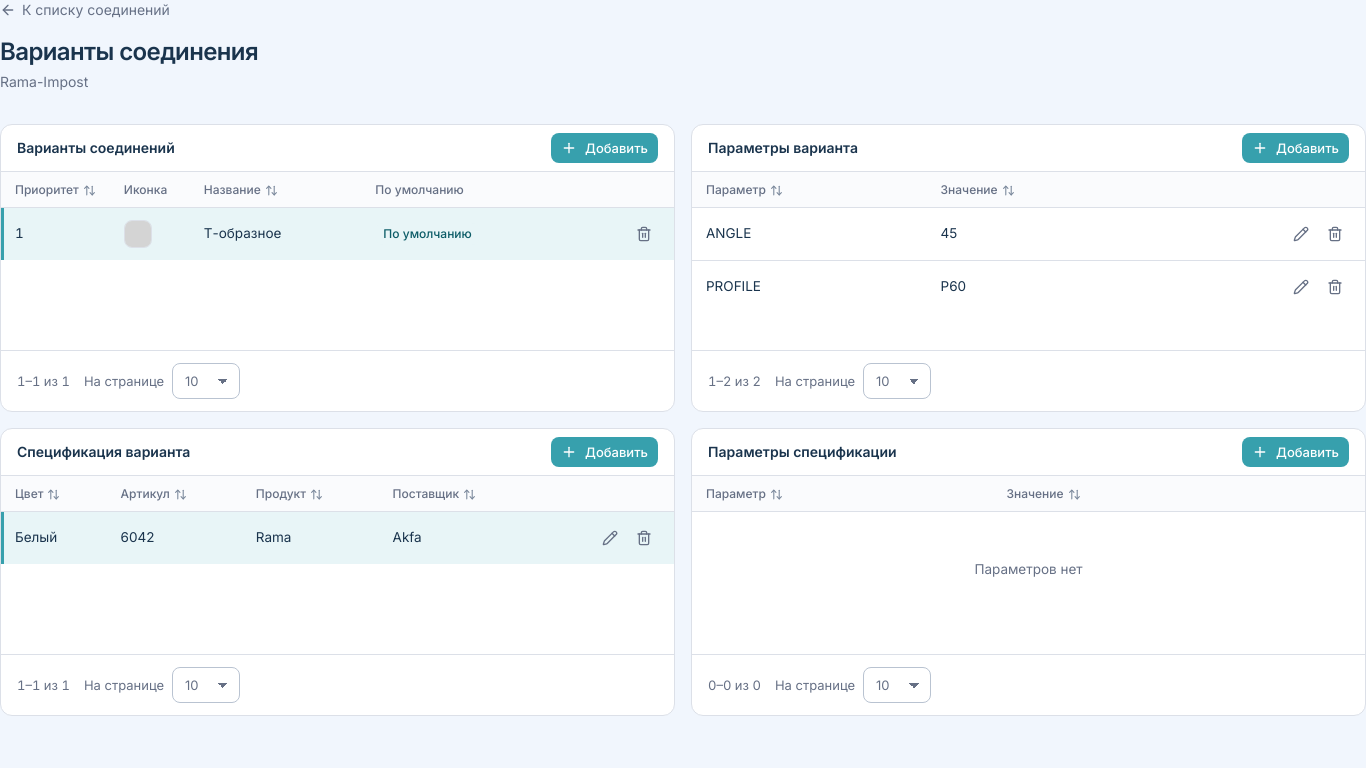
Scenario: Connection variants page › a deleted chosen variant is dropped from the URL, so its panels ask again
Click the button named "Удалить" in the row of "Т-образное" at (644, 234), box left=628, top=218, right=660, bottom=250
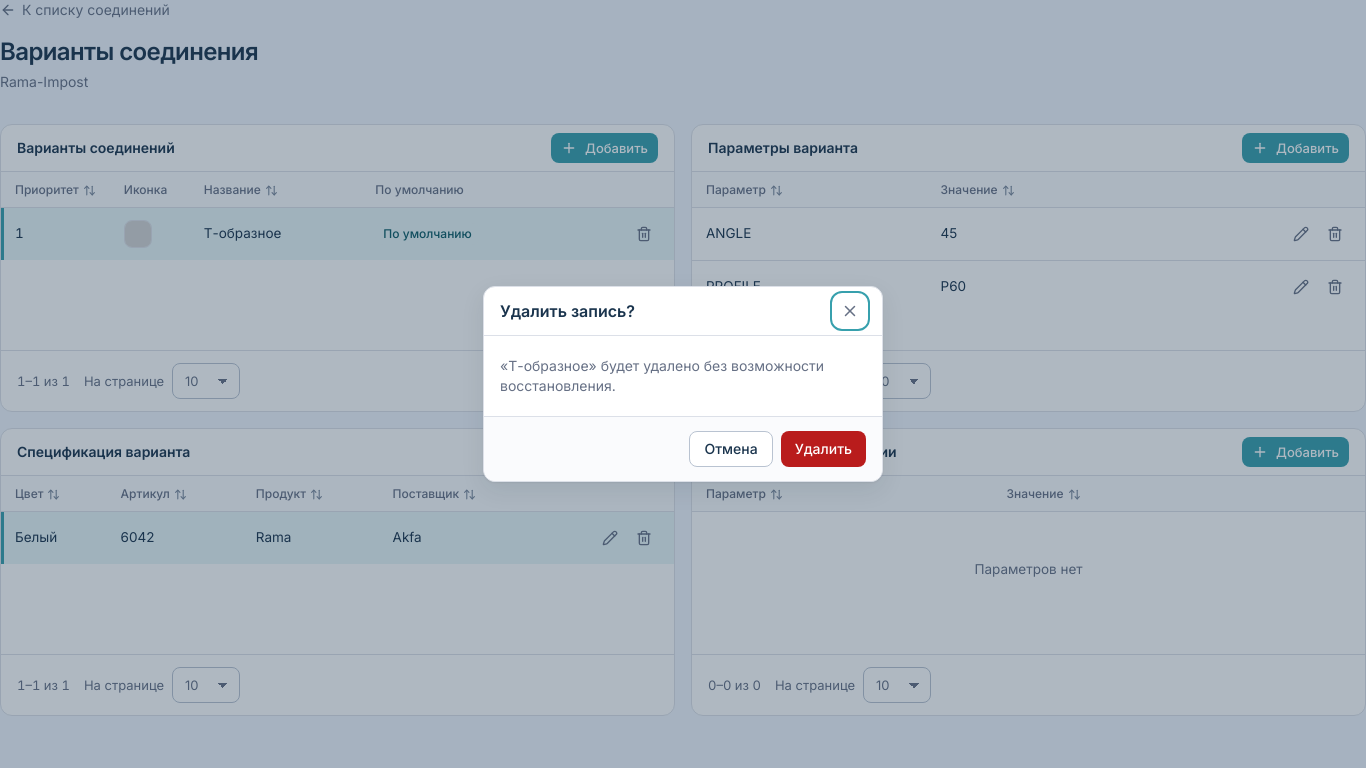
Click the button "Удалить" at (823, 449), box left=781, top=431, right=866, bottom=467
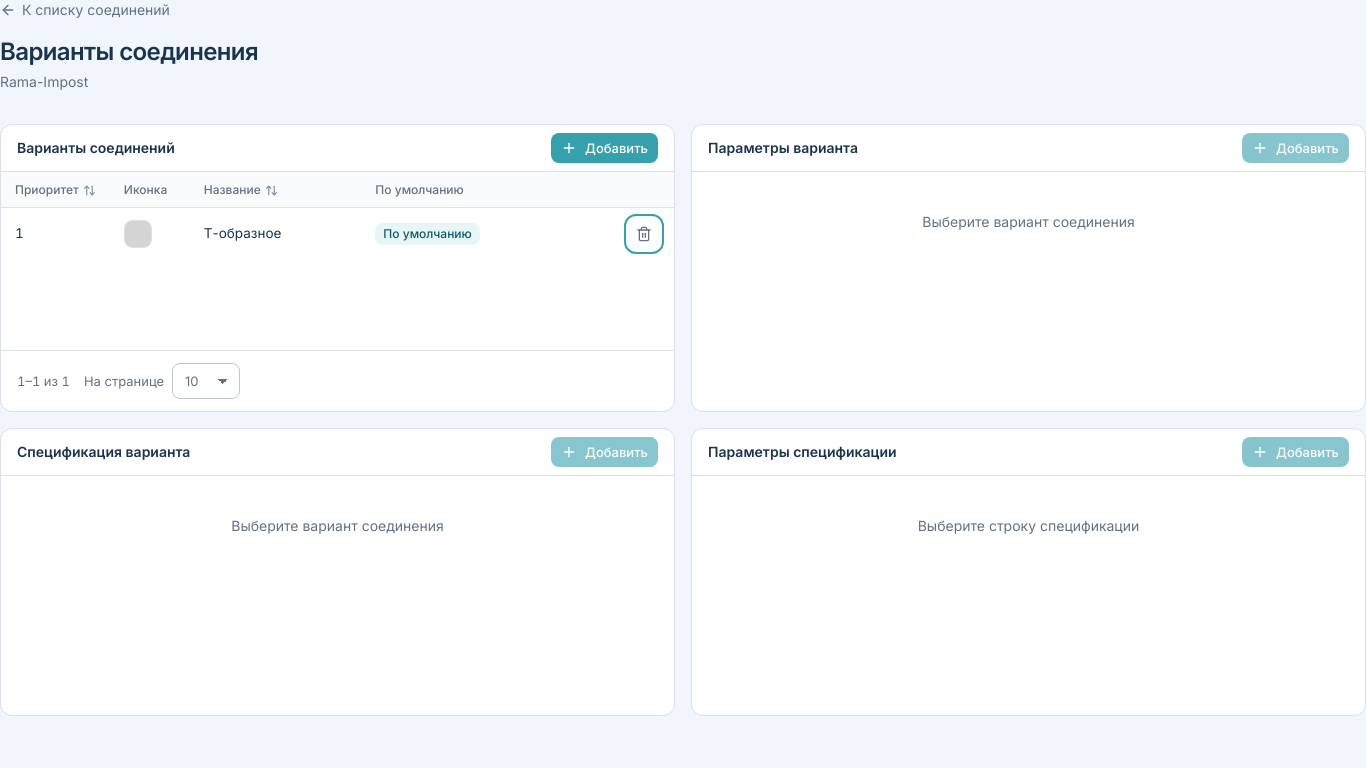
Expected: the text "Выберите вариант соединения" is shown 2 times, left=922, top=213, right=1135, bottom=230; left=231, top=517, right=444, bottom=534
